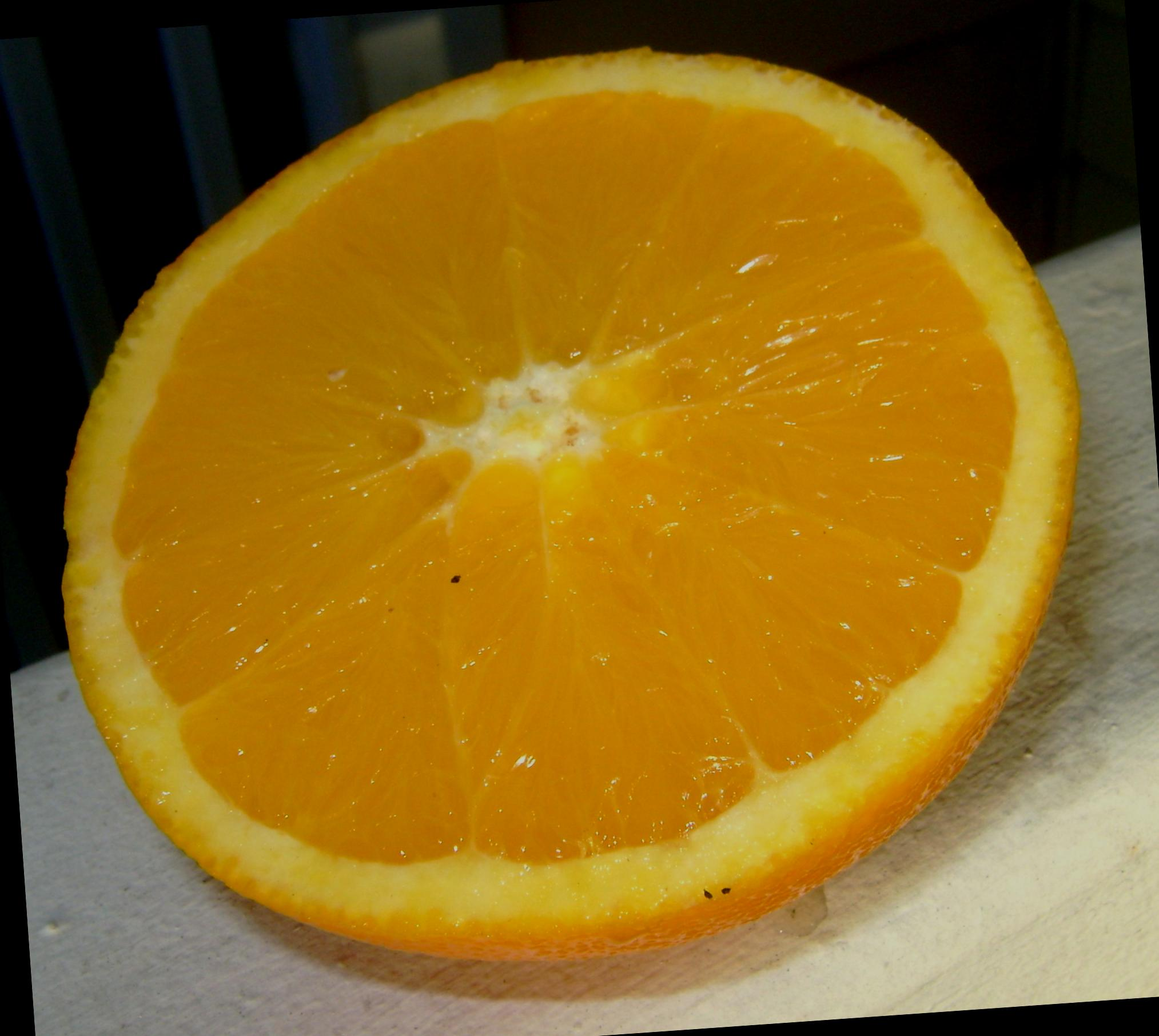Orange Ripe: (93, 115, 997, 920)
